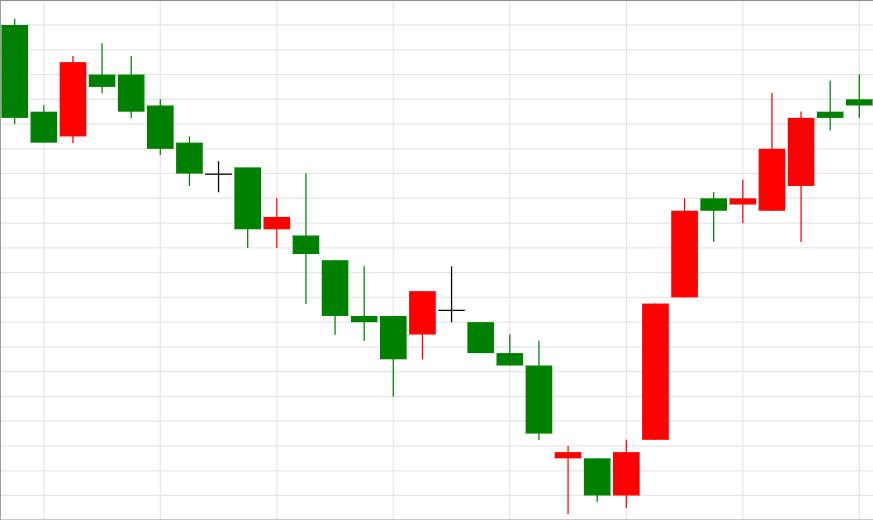three_white_soldiers_rise: (438, 197, 697, 515)
